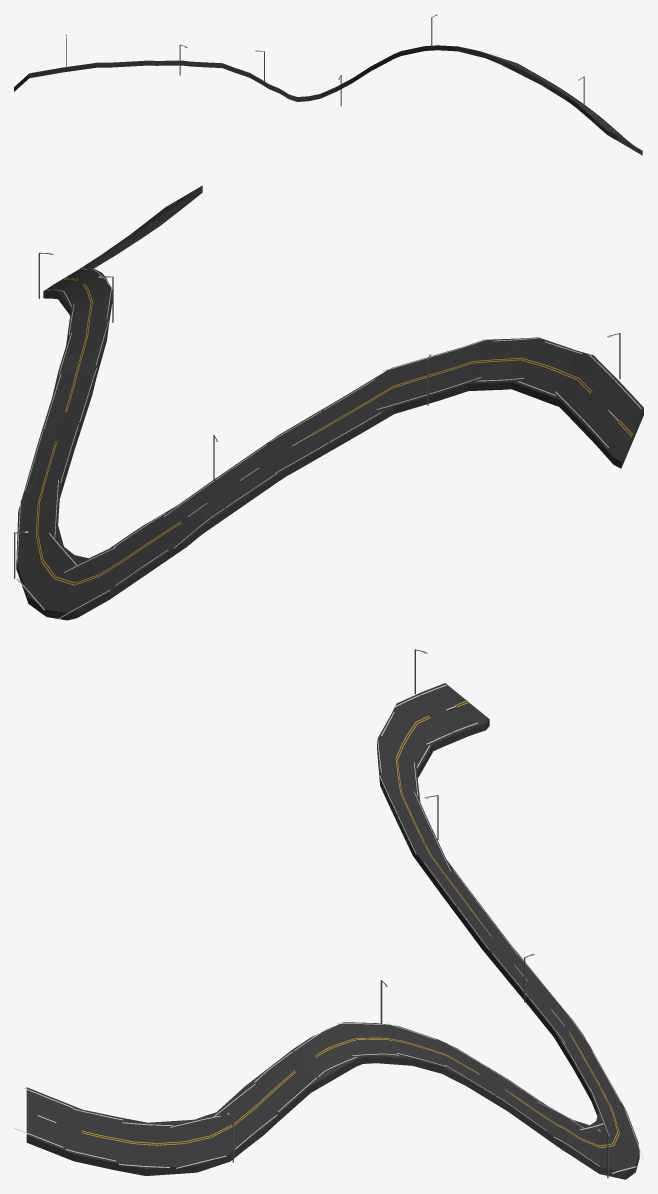
3 renders of one model, top to bottom at view 1: azimuth 30°, elevation 25°; view 2: azimuth 150°, elevation 25°; view 3: azimuth 270°, elevation 25°, orthographic. The views are drawn at different scales.
Bounding box in the file's own units: 123 × 51.22 × 96.02.
